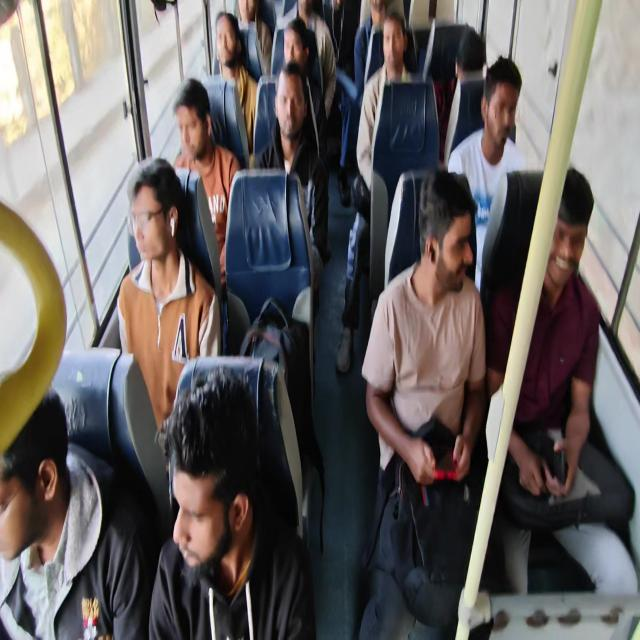person: (481, 165, 638, 596), (358, 168, 492, 638), (148, 366, 316, 638), (0, 391, 150, 638), (335, 11, 420, 373), (116, 156, 222, 434), (252, 60, 331, 301), (447, 54, 526, 290), (356, 11, 438, 194), (172, 77, 241, 288), (213, 10, 258, 154), (282, 18, 327, 158), (444, 28, 486, 164), (295, 0, 336, 119), (353, 0, 387, 96), (233, 0, 272, 76)
